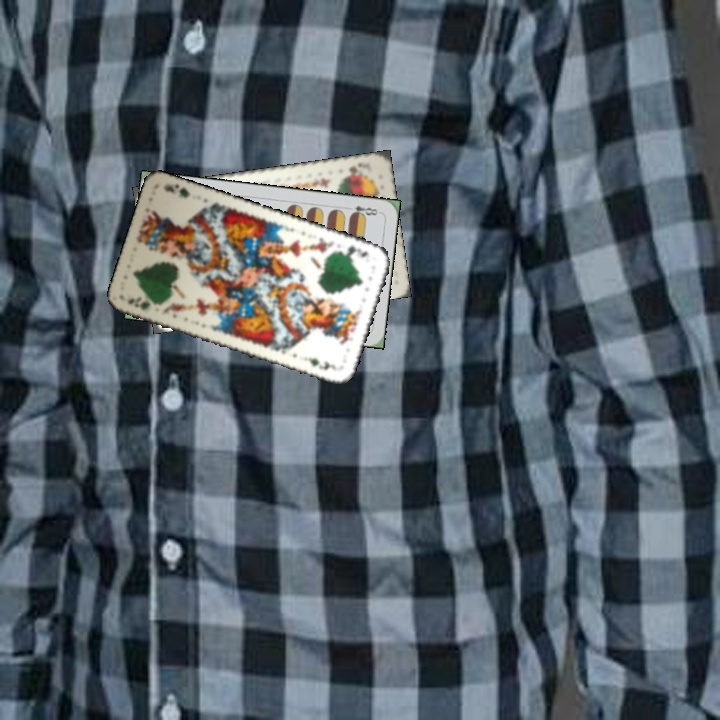E8: (342, 201, 382, 220)
GK: (335, 241, 370, 260), (124, 294, 153, 313)
SK: (339, 159, 364, 179)
